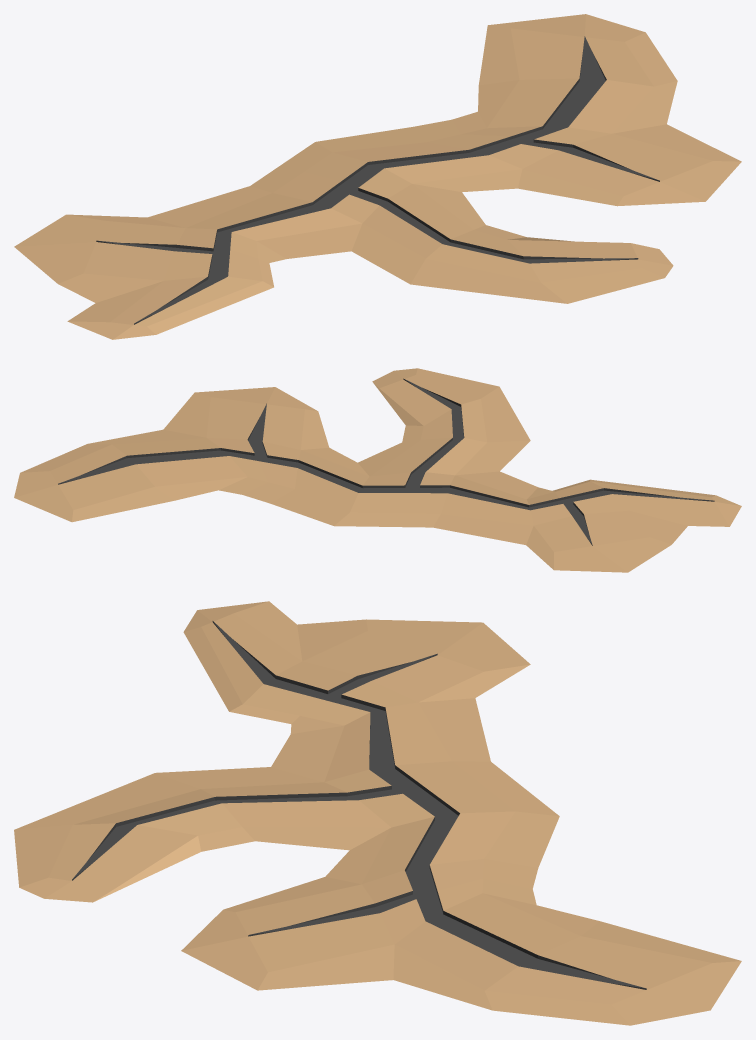
File: Crack_1.fbx
3 renders of one model, top to bottom at view 1: azimuth 30°, elevation 25°; view 2: azimuth 150°, elevation 25°; view 3: azimuth 270°, elevation 25°, orthographic. The views are drawn at different scales.
Parts seen in each view (by area): view 1: Crack_1; view 2: Crack_1; view 3: Crack_1.
Boxes of the visible parts, x1,y1,x2,y2 form: Crack_1: (14,14,741,339); Crack_1: (14,368,741,572); Crack_1: (14,601,741,1025).
Bounding box in the file's own units: 553 × 401 × 5.69.
